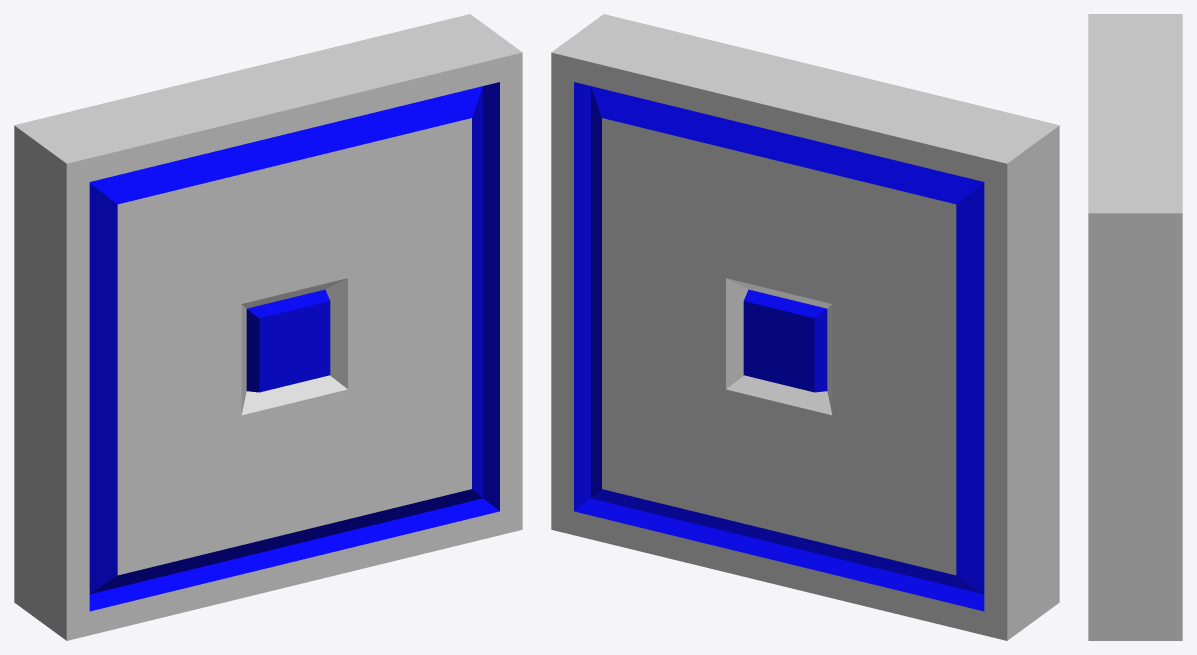
File: Puerta.glb
3 renders of one model, left to right at view 1: azimuth 30°, elevation 25°; view 2: azimuth 150°, elevation 25°; view 3: azimuth 270°, elevation 25°, orthographic. The views are drawn at different scales.
Visible parts, largest first — view 1: Puerta; view 2: Puerta; view 3: Puerta.
Part boxes in pixels (box(x1,y1,x2,y2)): Puerta: box(14, 14, 522, 640); Puerta: box(551, 14, 1059, 640); Puerta: box(1088, 14, 1182, 640).
Bounding box in the file's own units: 3 × 3 × 0.6.
